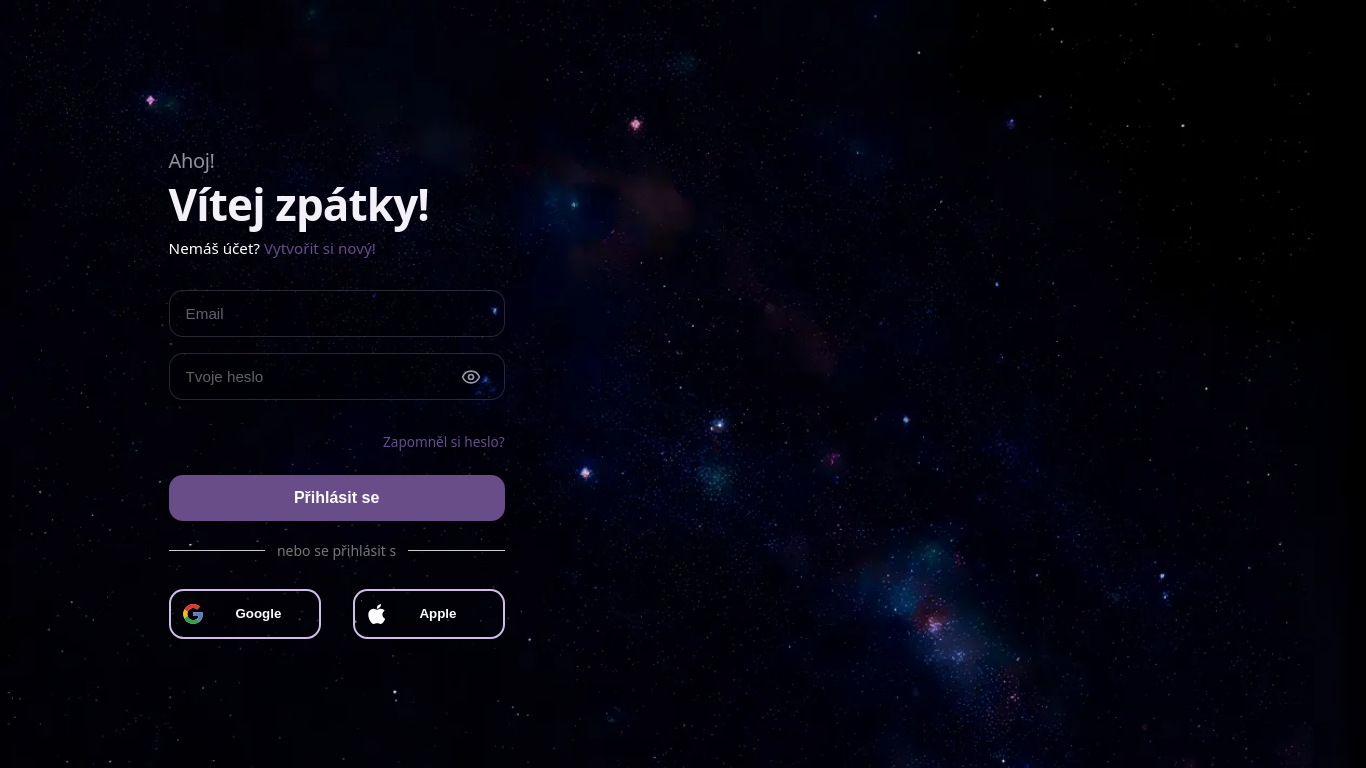
Test case: LoginForm › shows error for invalid email
Note: 'user@domain' passes HTML5 email validation but fails our custom isValidEmail regex (no TLD)
Type "user@domain" into the field with placeholder "Email".
click(337, 314); type("user@domain")  # box left=169, top=290, right=505, bottom=337
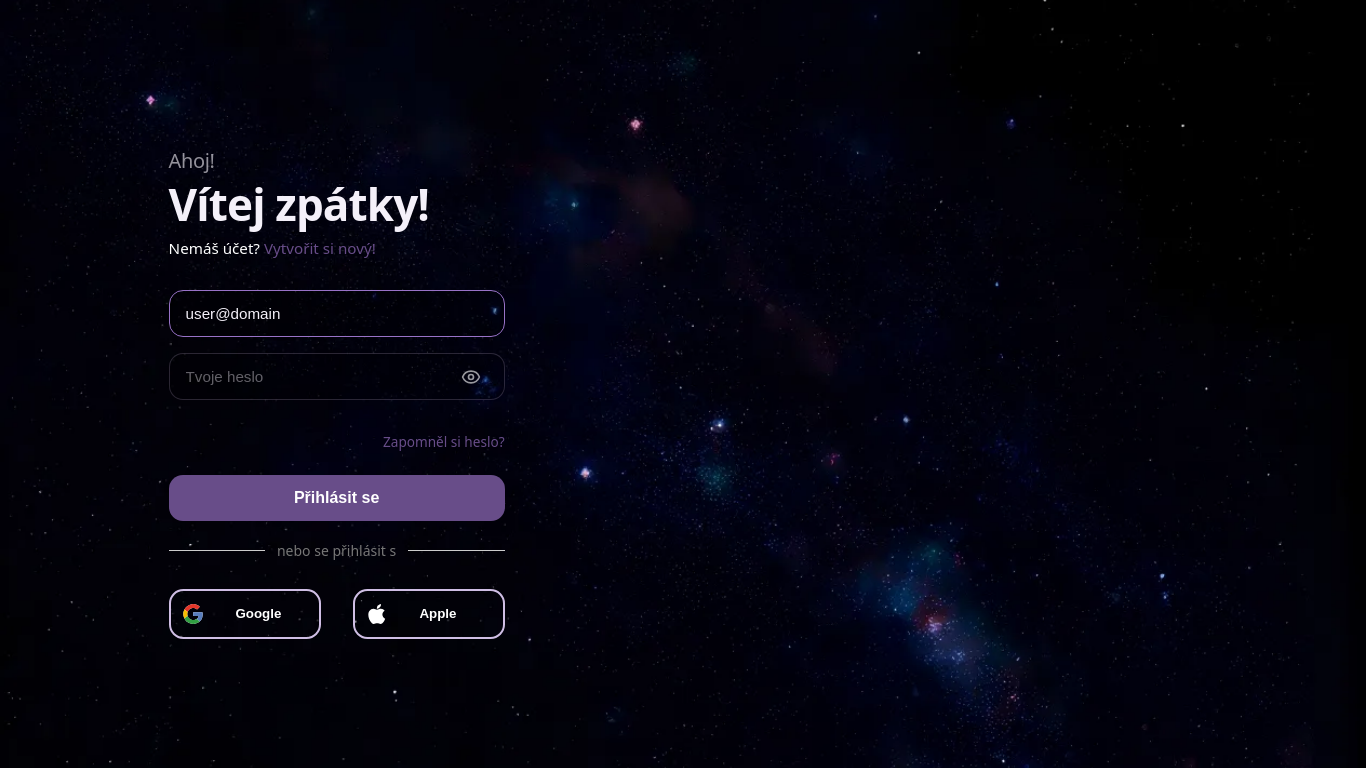
Click the button "Přihlásit se".
click(337, 498)  # box left=169, top=475, right=505, bottom=521
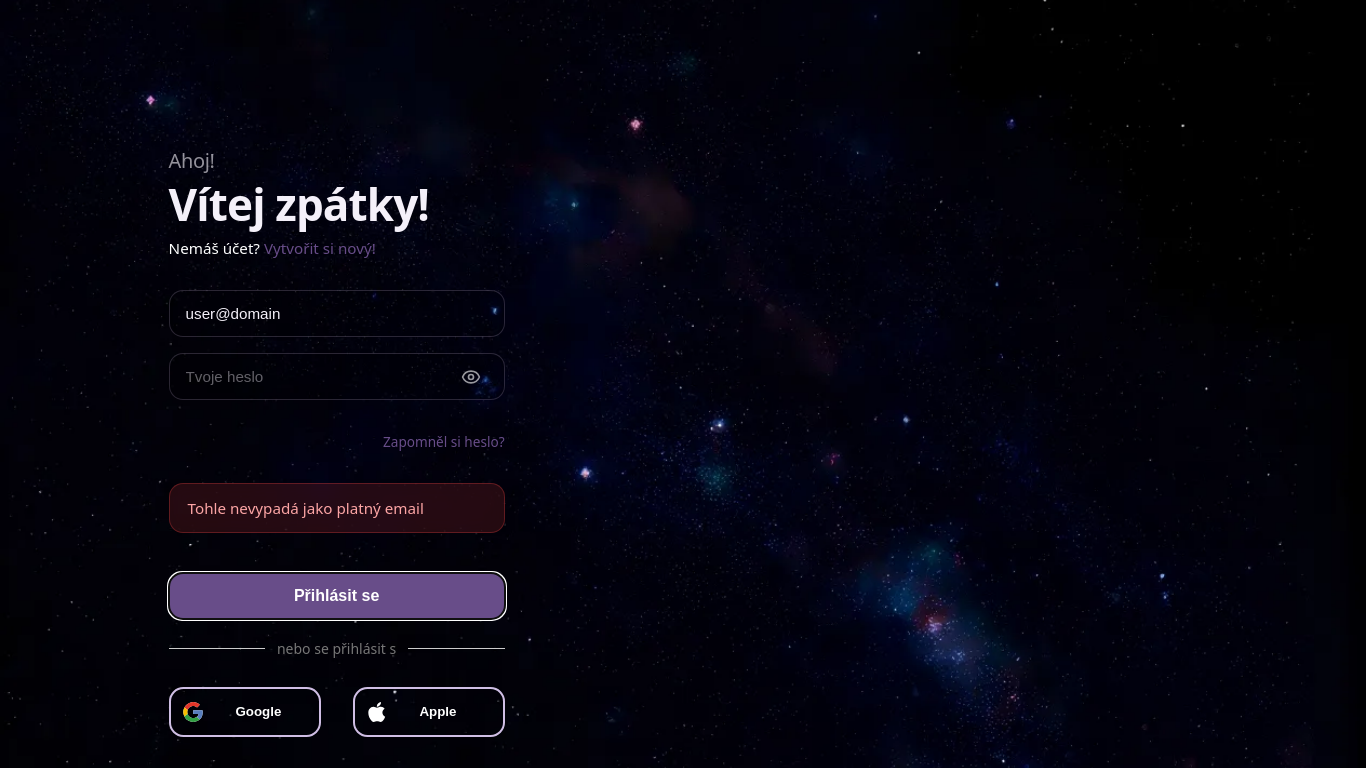
Now the message reads "Tohle nevypadá jako platný email", box left=188, top=498, right=424, bottom=518
